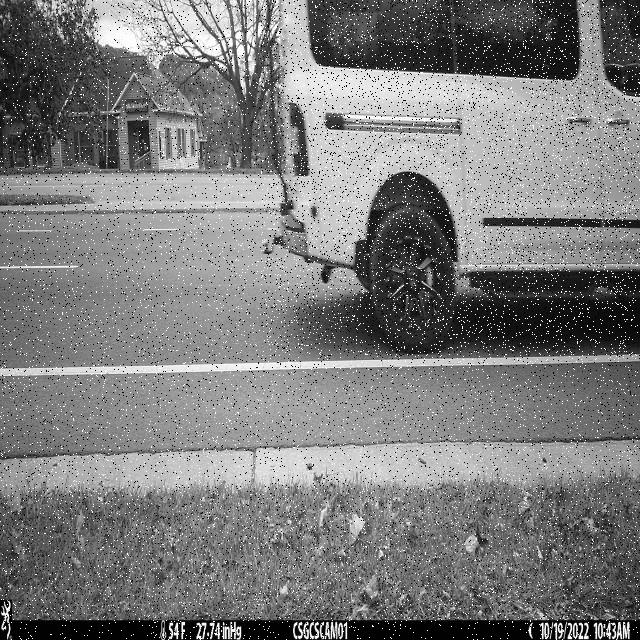Van: (261, 0, 640, 356)
